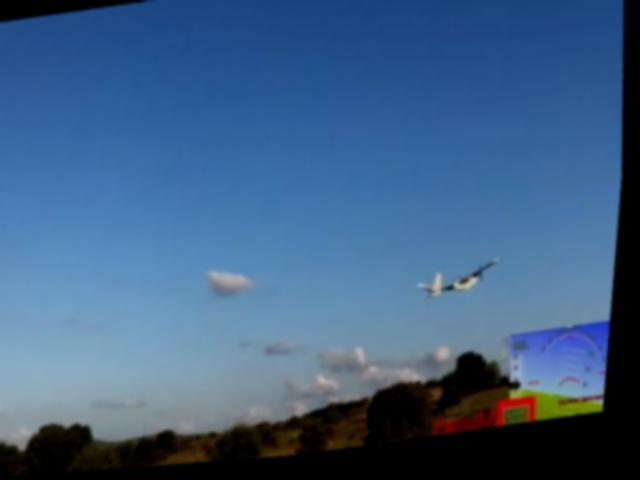uav: (420, 259, 508, 307)
